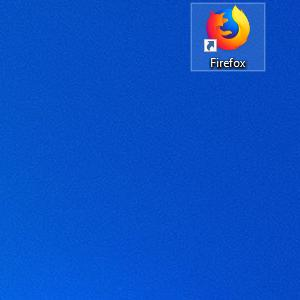firefox: (203, 4, 251, 53)
